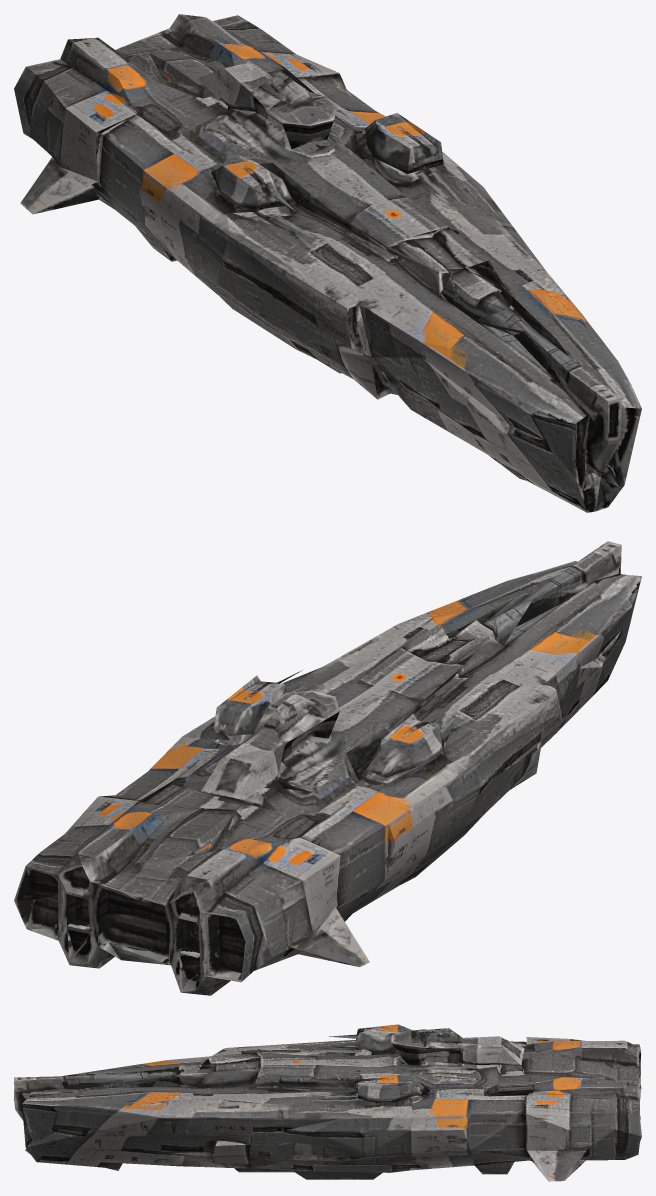
File: hard-1000.glb
3 views of the same model, one above another, from view 1: azimuth 30°, elevation 25°; view 2: azimuth 150°, elevation 25°; view 3: azimuth 270°, elevation 25° (orthographic). The views are drawn at different scales.
Visible parts, largest first — view 1: Low; view 2: Low; view 3: Low.
Part boxes in pixels (box(x1,y1,x2,y2)): Low: box(14, 14, 641, 512); Low: box(14, 541, 641, 995); Low: box(14, 1024, 641, 1181).
Bounding box in the file's own units: 0.3948 × 0.2411 × 0.9789.
1 material, 1 textured.
